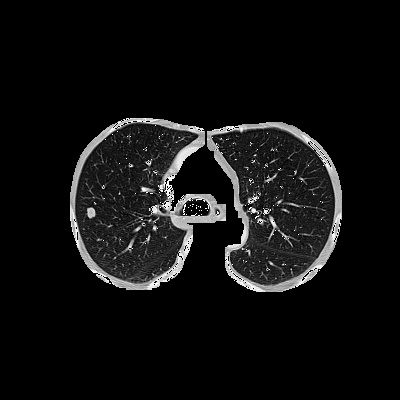PN: (86, 208, 96, 218)
